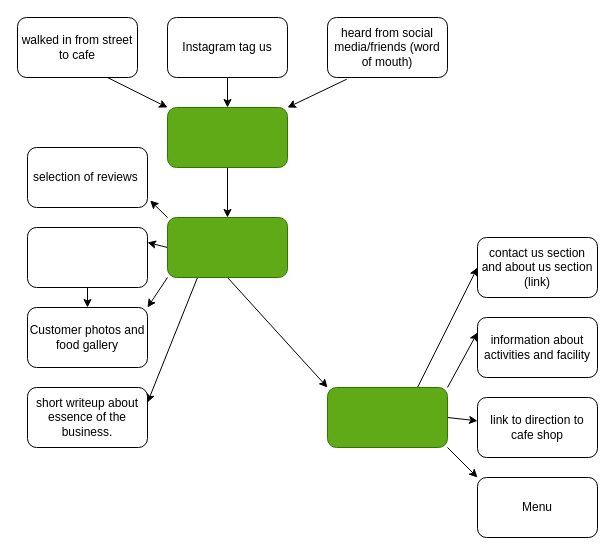
This 615x555 diagram has some shape labels left out. Each missing label, with the box of its shape:
arrive at website: (166, 106, 288, 168)
main section of website page: (166, 216, 288, 278)
navigation bar: (326, 386, 448, 448)
visually stimulating (pictures & designs): (26, 226, 148, 288)
